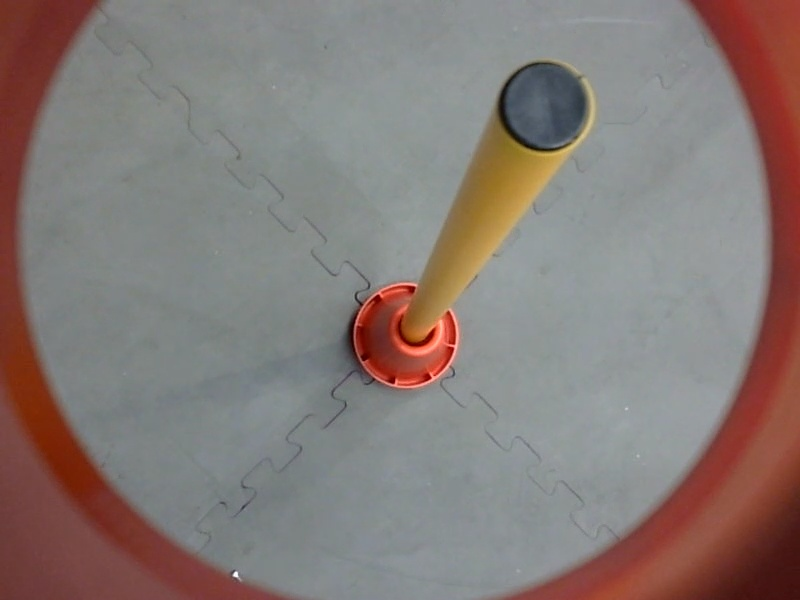tip: (487, 48, 604, 163)
